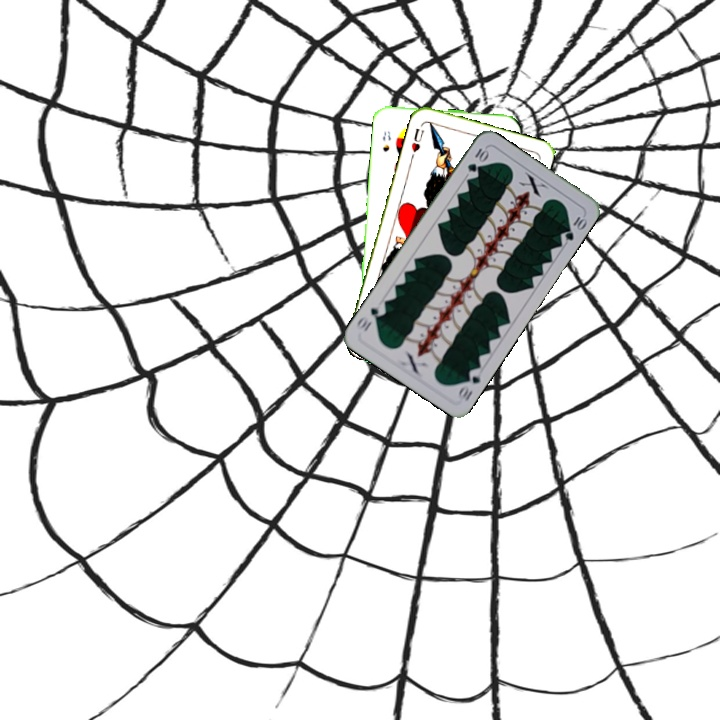G10: (454, 364, 485, 404), (463, 144, 491, 175)
HU: (407, 124, 426, 160)
S8: (379, 127, 393, 154)
